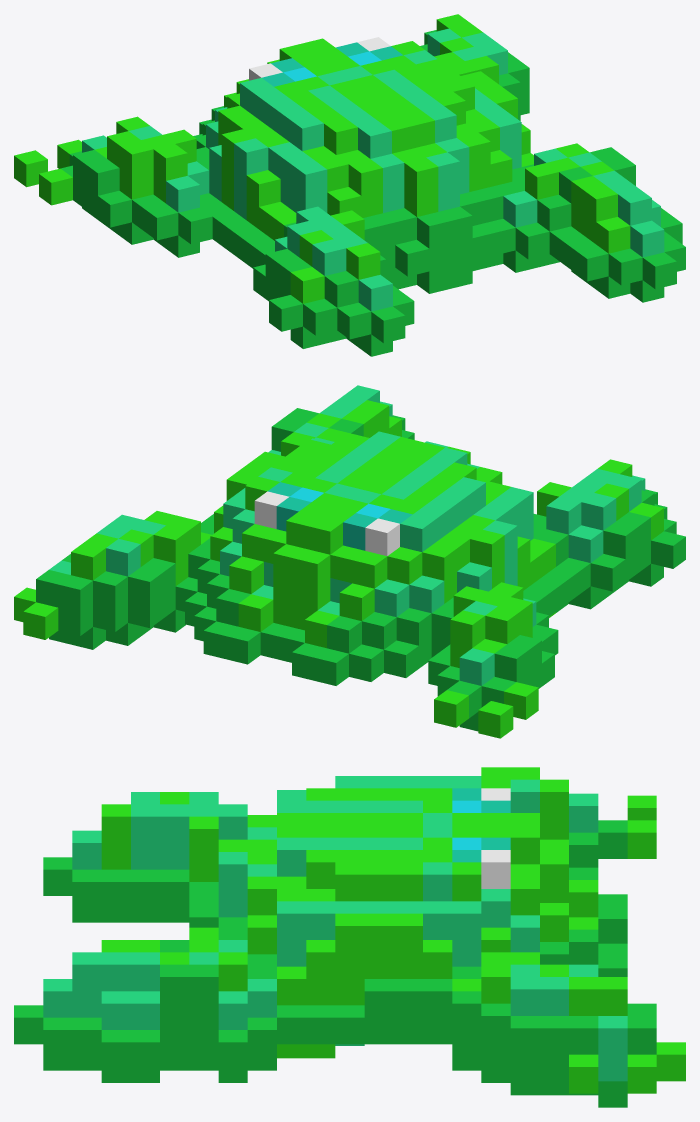
Rendered from frogJump.vox.obj.
3 renders of one model, top to bottom at view 1: azimuth 30°, elevation 25°; view 2: azimuth 150°, elevation 25°; view 3: azimuth 270°, elevation 25°, orthographic. The views are drawn at different scales.
Parts seen in each view (by area): view 1: frog2; view 2: frog2; view 3: frog2.
Part boxes in pixels (bbox=[...]): frog2: bbox=[14, 14, 685, 356]; frog2: bbox=[14, 385, 685, 738]; frog2: bbox=[14, 767, 685, 1107].
Size of the model in its own units: 2.2 by 0.6 by 2.3.
Materials: 1 (1 with a texture image).
